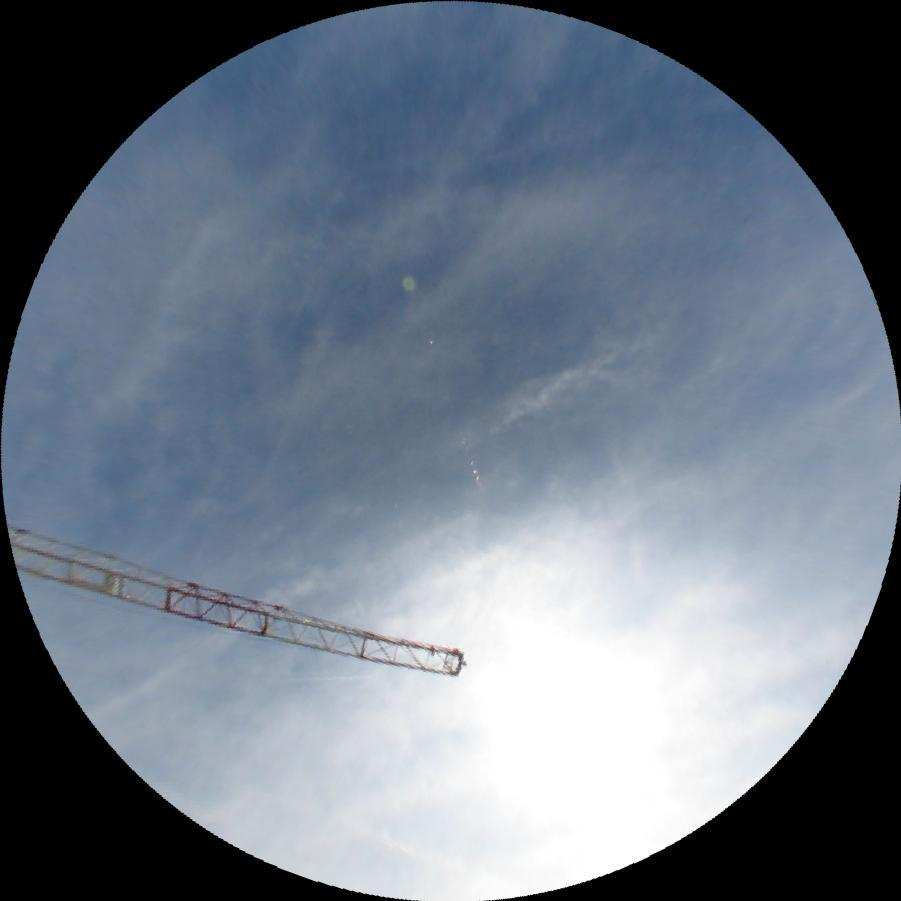contrail young: (261, 673, 368, 685)
